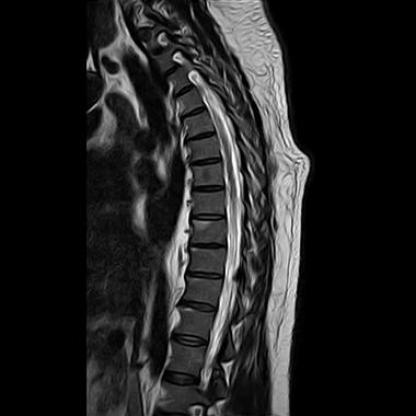Disc Protrusionrotation: (176, 91, 205, 113), (187, 128, 217, 145)
